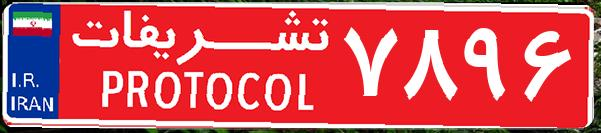6: (520, 20, 580, 115)
7: (340, 20, 400, 115)
8: (400, 20, 460, 115)
9: (460, 20, 520, 115)
تشریفات: (60, 8, 340, 125)
